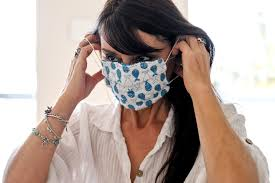FaceMask: (101, 57, 169, 111)
